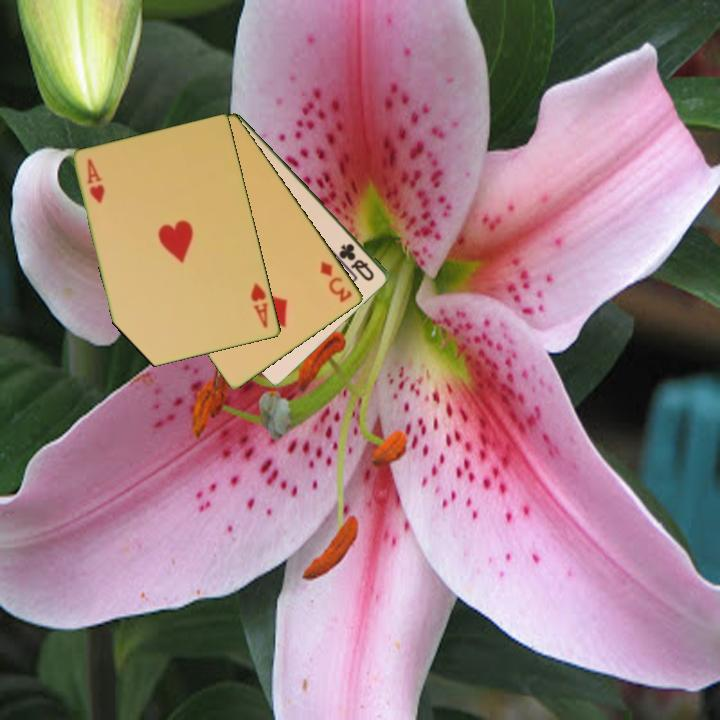3d: (317, 258, 356, 306)
Ah: (247, 279, 271, 331), (84, 155, 107, 206)
Qc: (335, 240, 378, 284)
